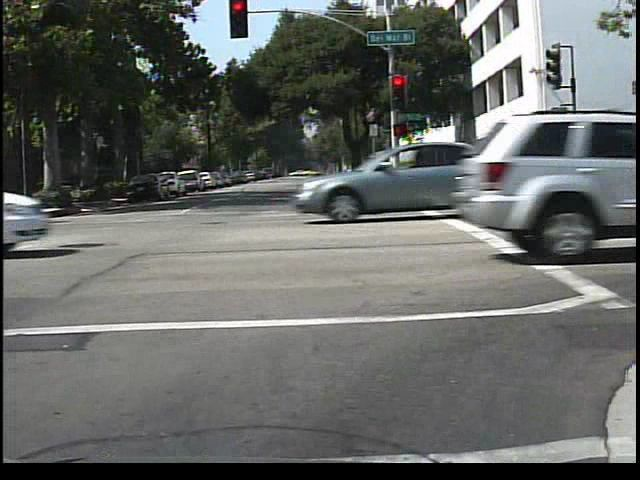person: (601, 136, 628, 202)
